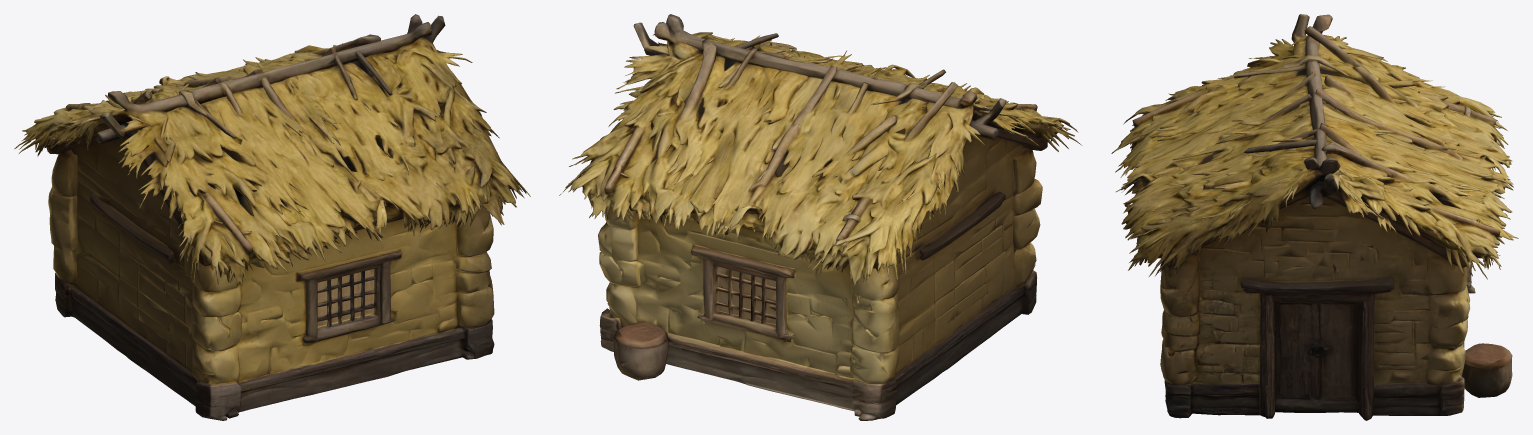
Rendered from hut-high.glb.
3 views of the same model, side by side, from view 1: azimuth 30°, elevation 25°; view 2: azimuth 150°, elevation 25°; view 3: azimuth 270°, elevation 25° (orthographic). The views are drawn at different scales.
Bounding box in the file's own units: 0.9835 × 0.7179 × 0.9989.
1 material, 1 textured.
